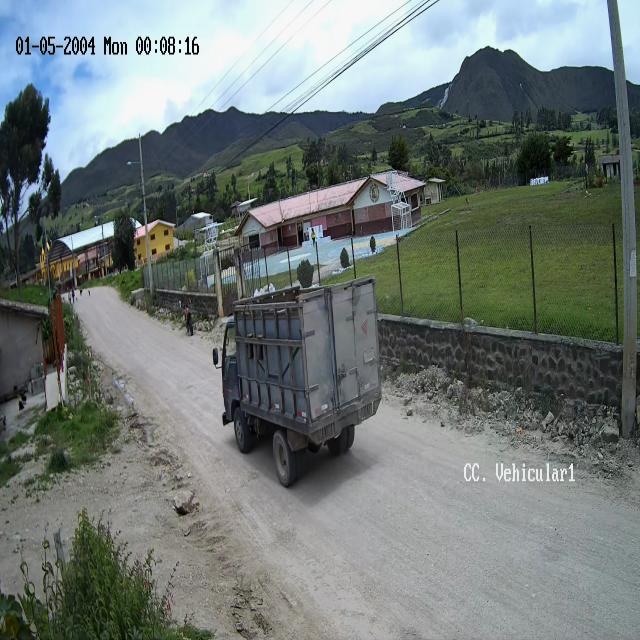TRUCK: (222, 276, 382, 487)
